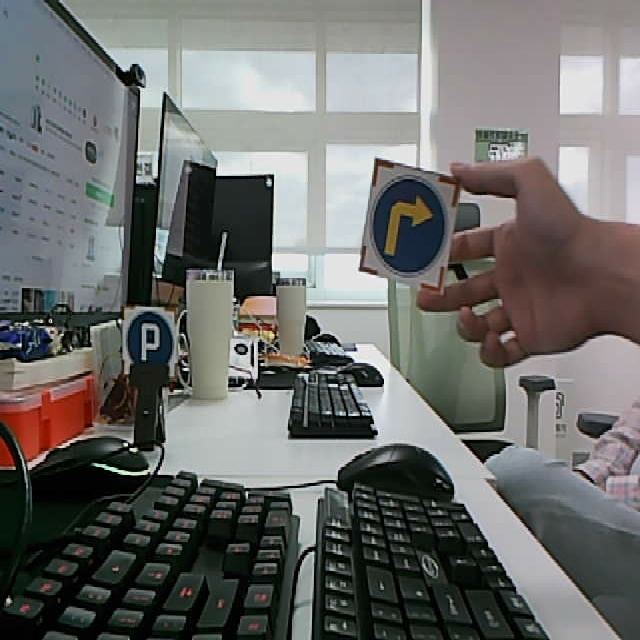right: (360, 158, 459, 296)
